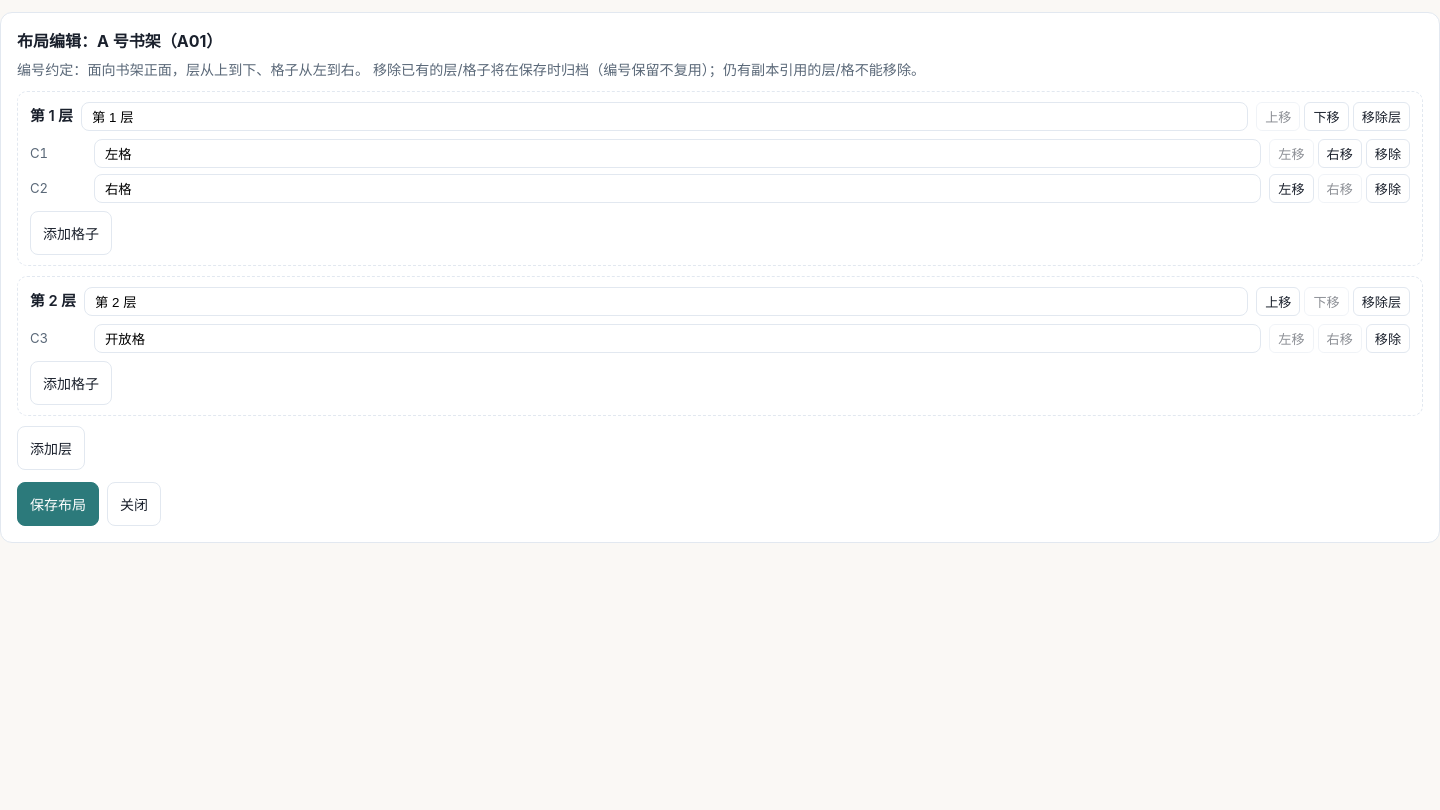
ShelfLayoutEditor › LOCATION_IN_USE：指出被引用格子并引导先处理副本，编辑内容保留
Click the button "移除" in the row of "C2".
click(1388, 189)  # box [1366, 174, 1410, 203]
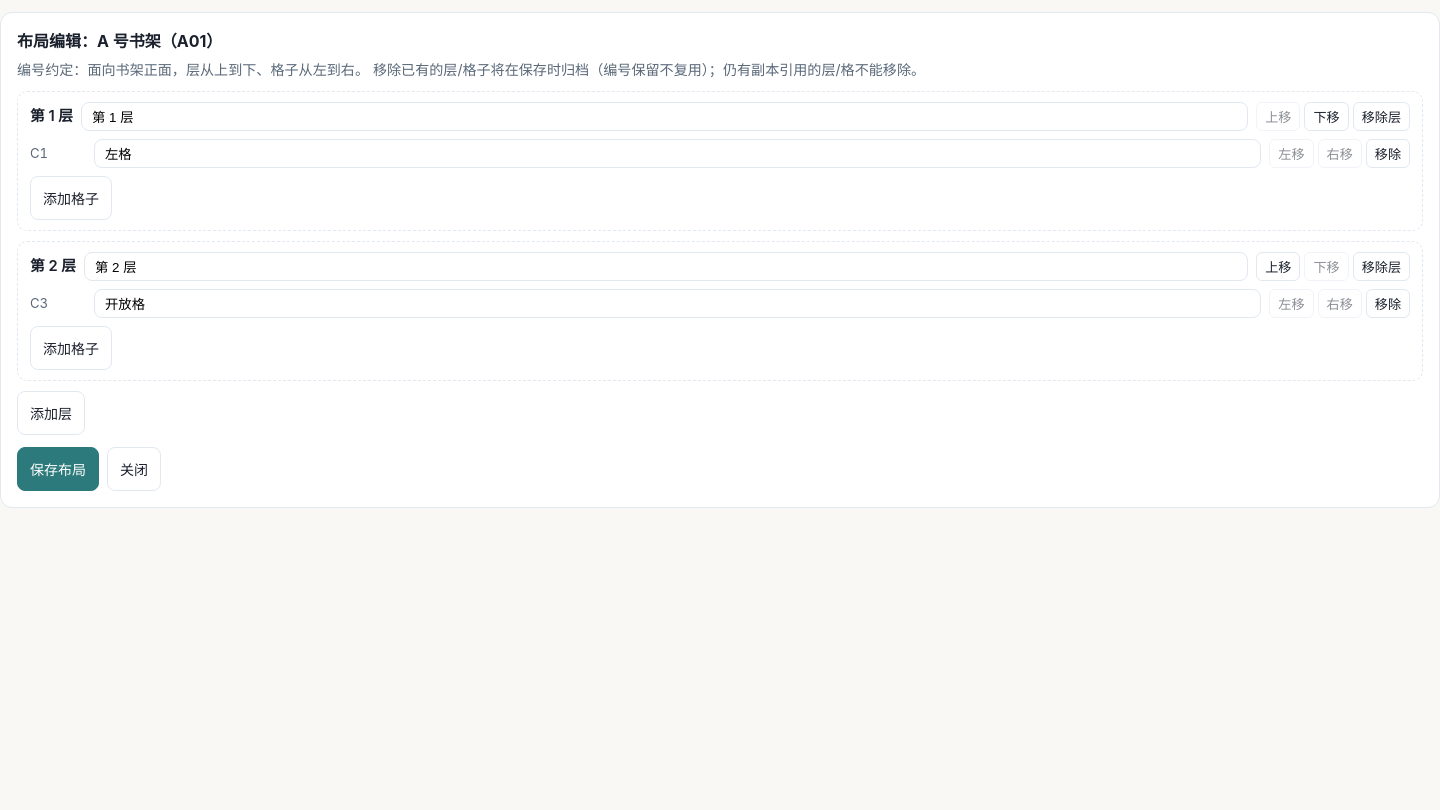
Click the button "保存布局".
click(58, 469)  # box [17, 447, 99, 491]
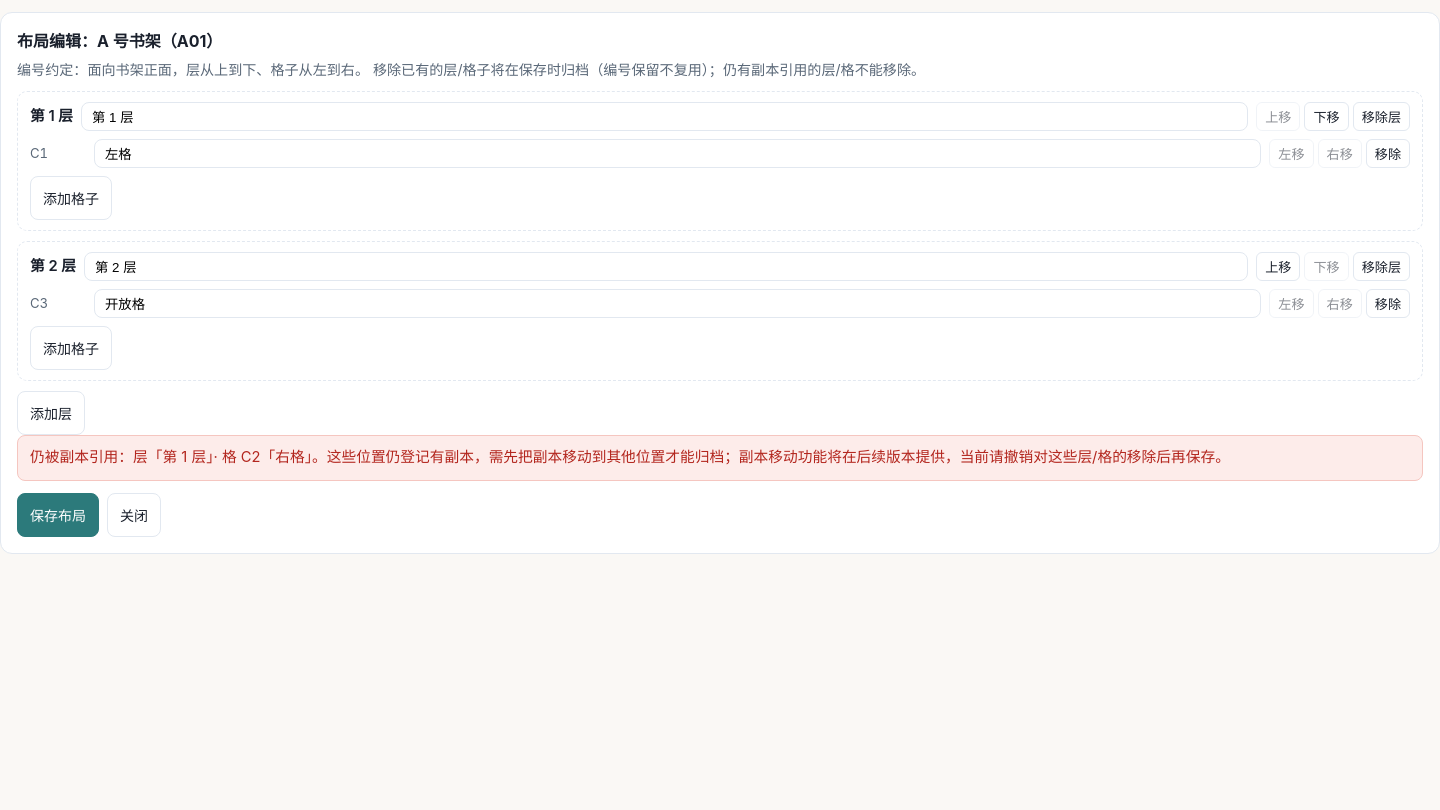
expect the text "保存布局" is shown: met, box [17, 493, 99, 537]
expect the message with class "error-box" shows "层「第 1 层」· 格 C2「右格」": met, box [30, 448, 1230, 466]
expect the message with class "error-box" shows "先把副本移动到其他位置": met, box [30, 448, 1230, 466]
